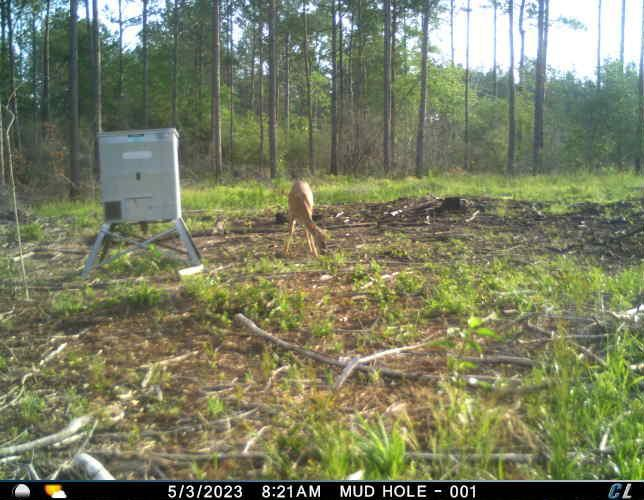Deer: (284, 177, 334, 261)
